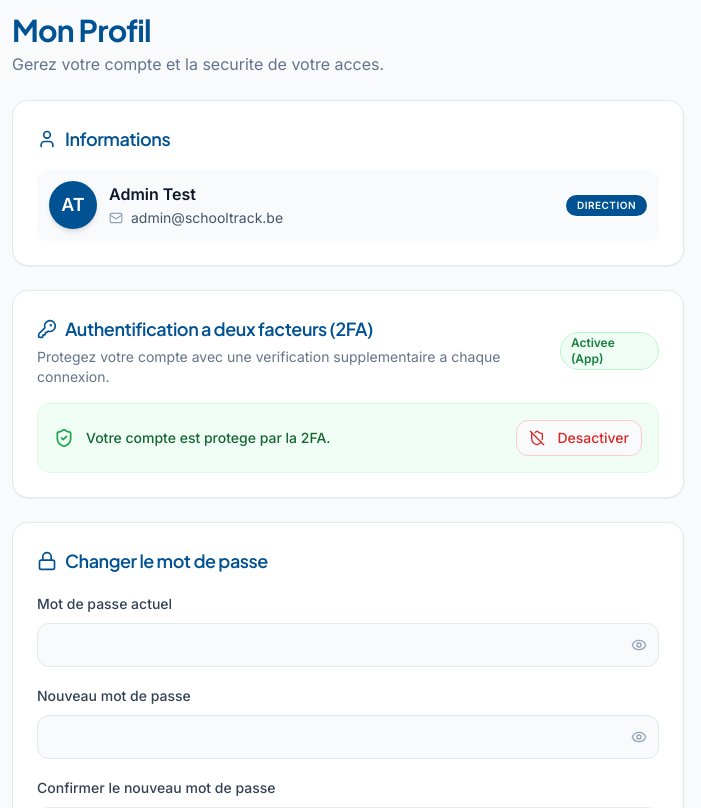
Test: ProfileScreen — 2FA activee / Desactivation › desactive la 2FA apres confirmation
This screenshot has width=701, height=808.
Click the button "Desactiver" at (579,438), box x1=516 y1=420 x2=642 y2=456
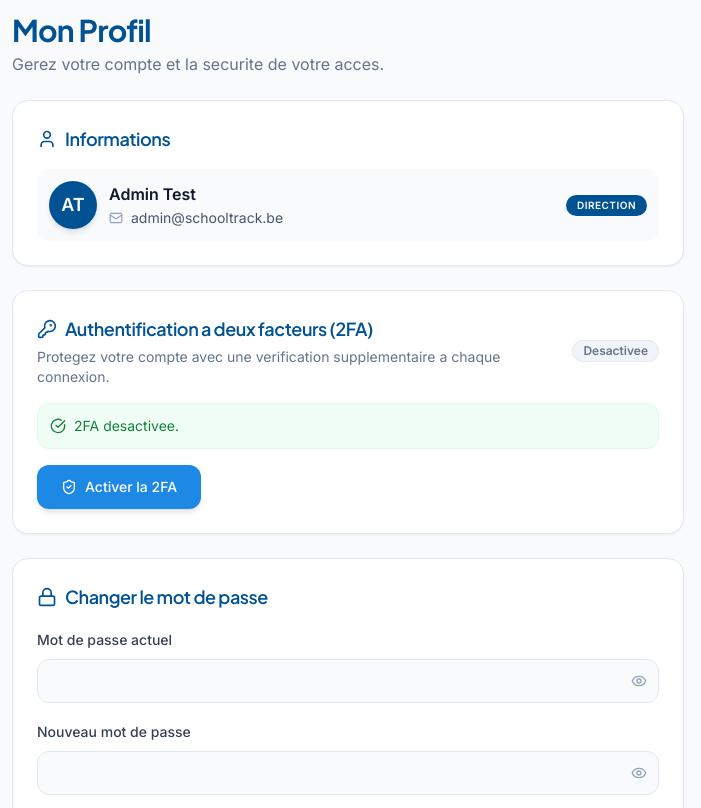
Check: the text "2FA desactivee." is shown, box x1=37 y1=403 x2=659 y2=449
